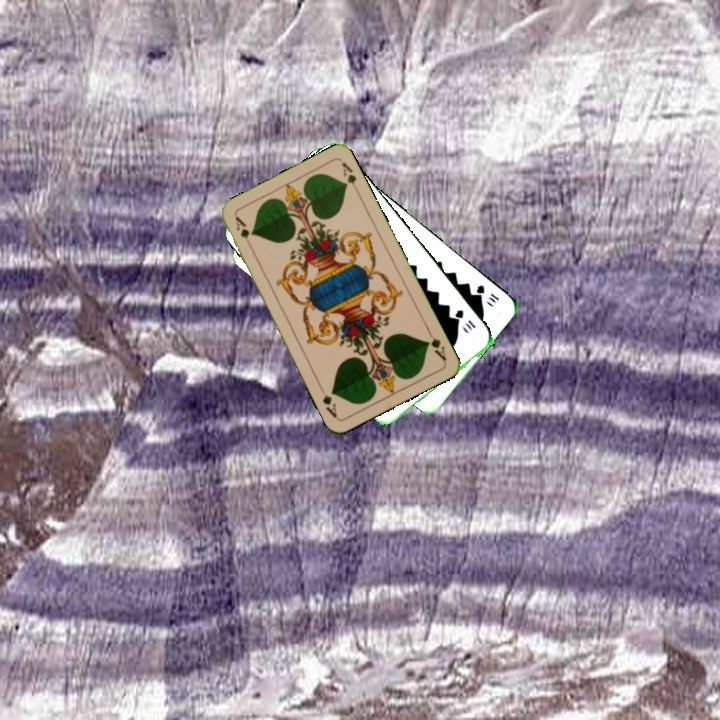G10: (451, 305, 478, 334), (472, 281, 502, 306)
GA: (422, 325, 449, 363), (231, 212, 255, 251)
